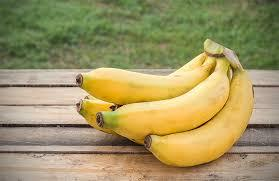banana: (77, 38, 255, 169)
